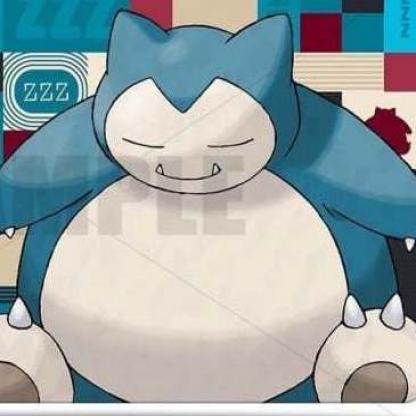Snorlax: (1, 20, 416, 416)
